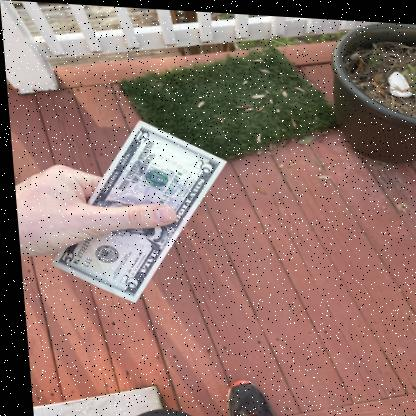five-front: (48, 119, 229, 306)
